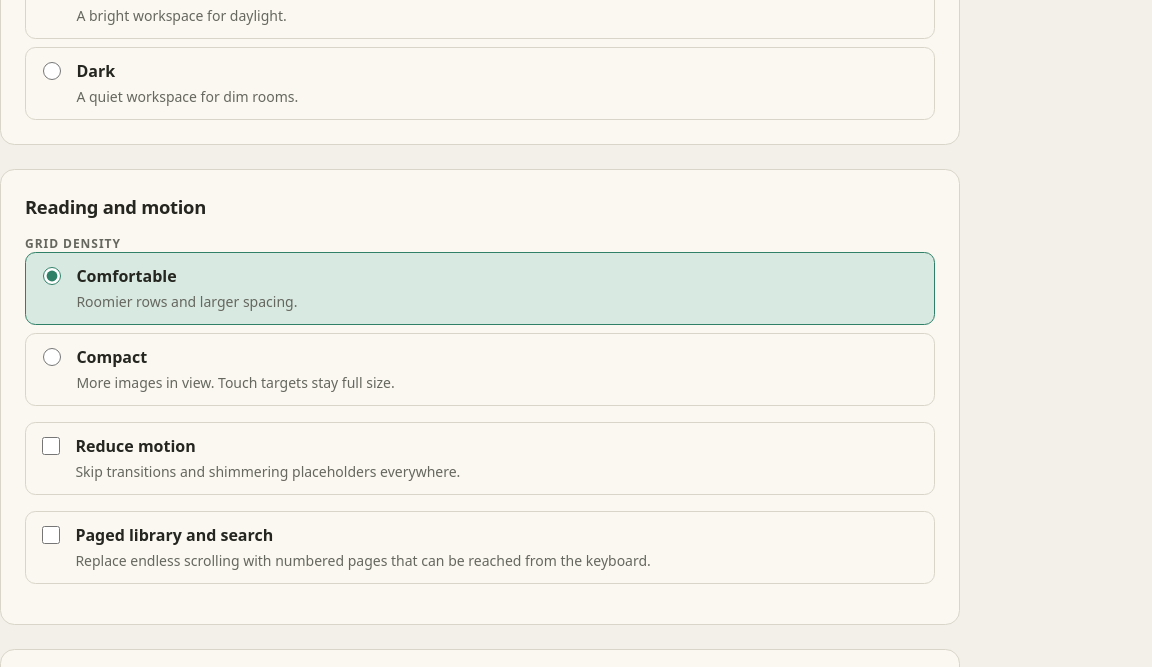
settings: device preferences › keeps the device applying a preference the account could not store
(page scrolled)
Click the radio button labelled "Compact" at (52, 357), box x1=43 y1=348 x2=61 y2=366
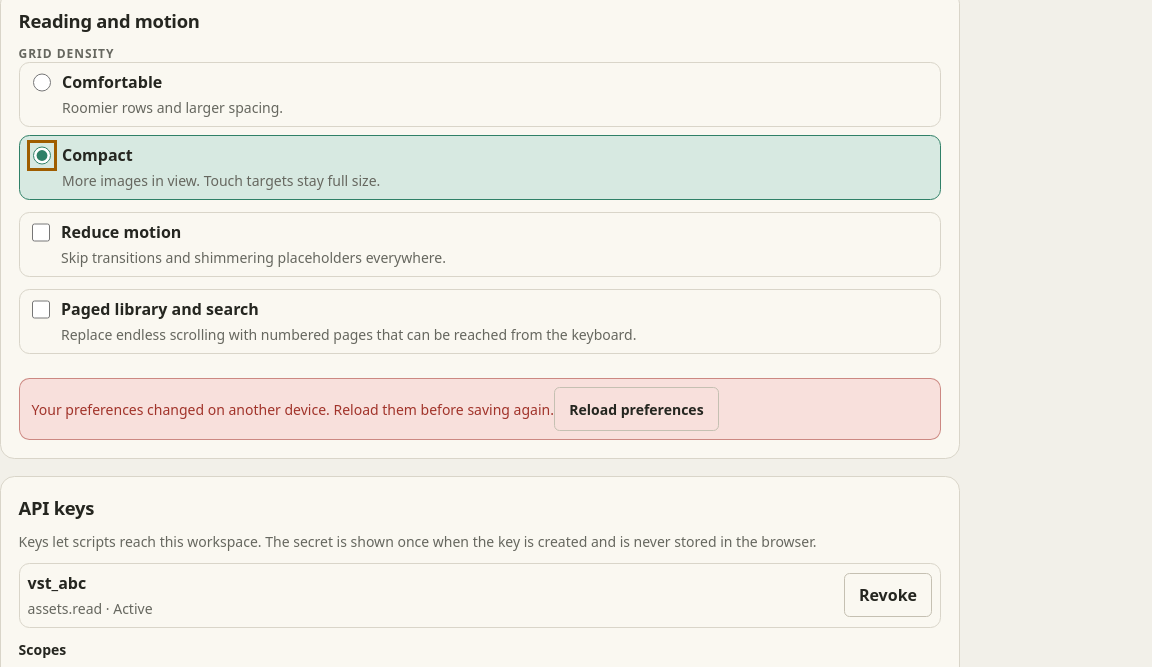
Check: the message shows "changed on another device", box x1=32 y1=400 x2=554 y2=419
